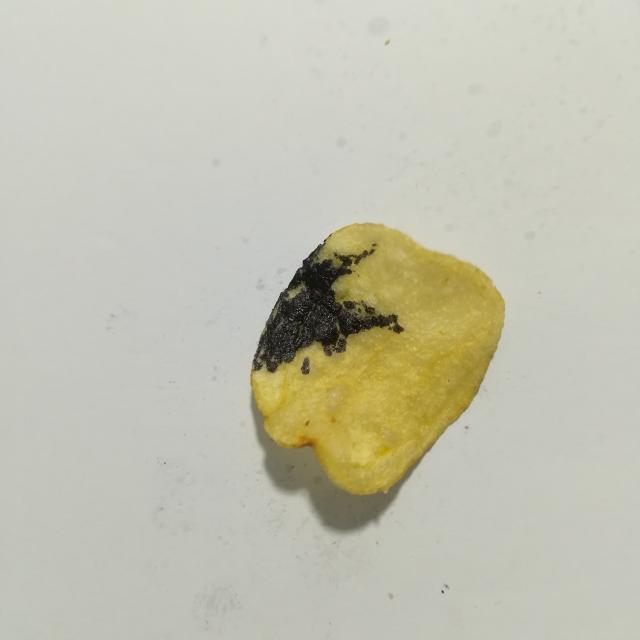chip: (251, 223, 504, 495)
damaged: (252, 234, 403, 372), (301, 357, 310, 374)
